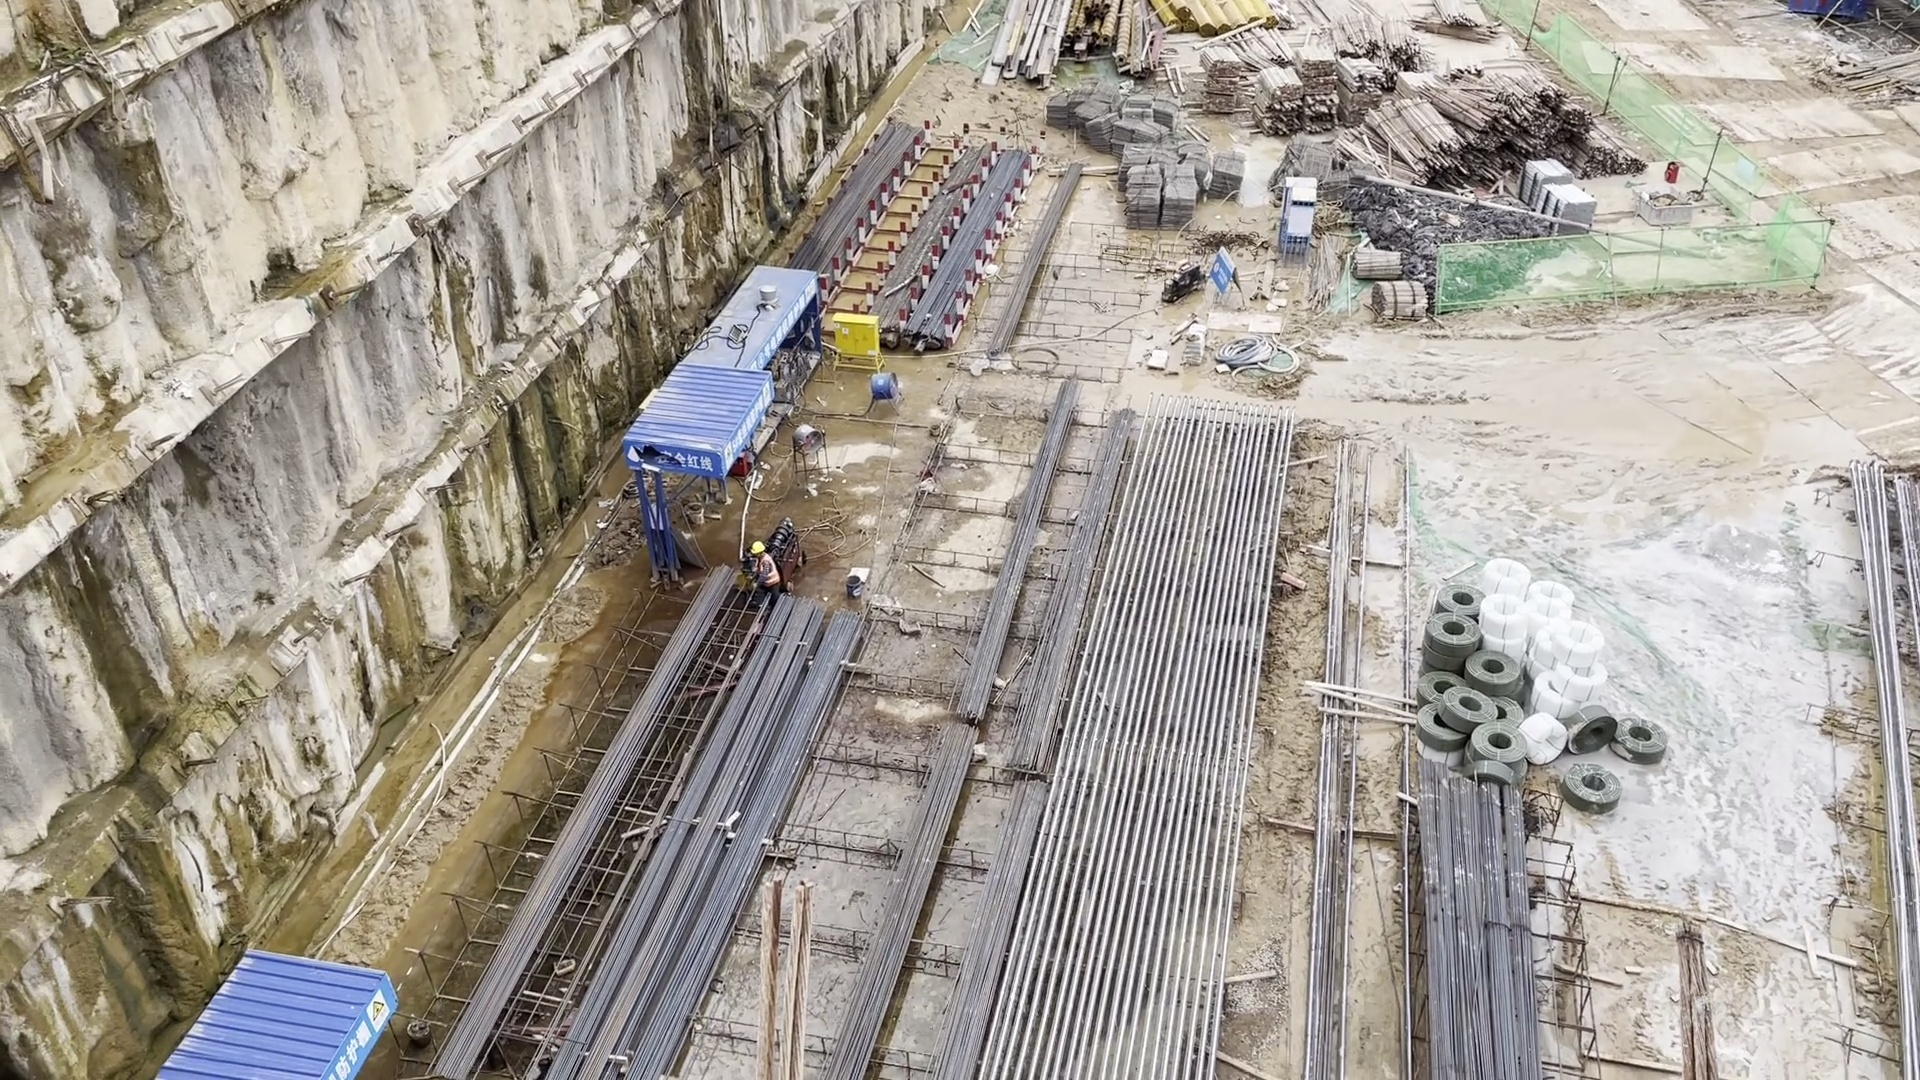brick: (1522, 160, 1592, 236)
ebox: (834, 309, 884, 370)
helmet: (751, 540, 767, 555)
person: (749, 542, 786, 596)
rebar: (882, 398, 1349, 1080), (460, 592, 875, 1080), (811, 138, 1066, 370), (1854, 463, 1918, 1080), (1414, 781, 1539, 1080)
slogan: (626, 439, 719, 477)
vest: (758, 558, 782, 587)
